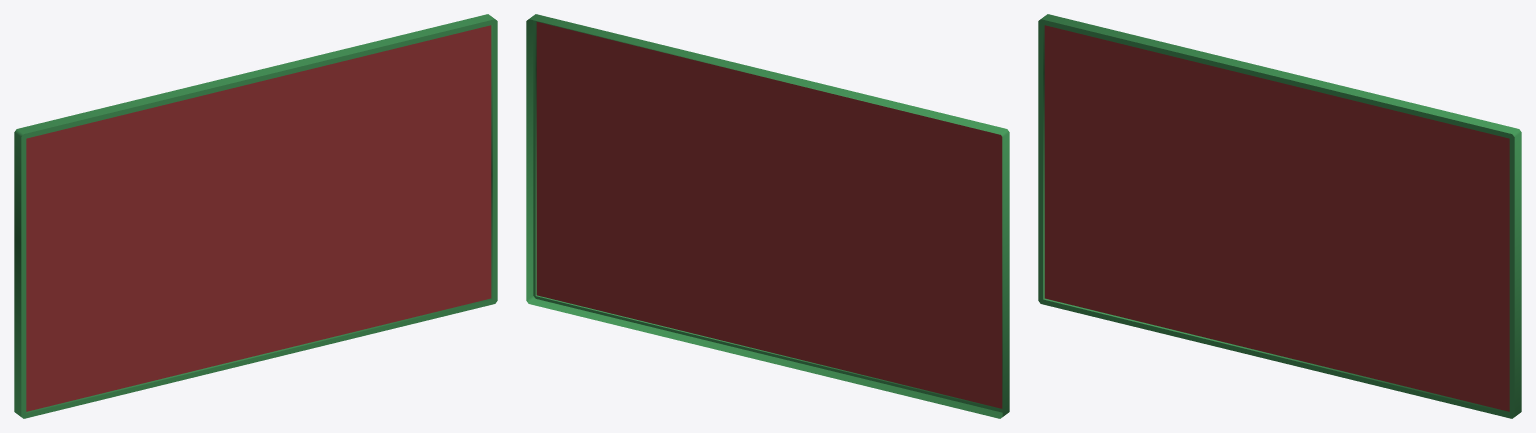
The model's file is Banner_Screen_2.FBX.
3 renders of one model, left to right at view 1: azimuth 30°, elevation 25°; view 2: azimuth 150°, elevation 25°; view 3: azimuth 330°, elevation 25°, orthographic.
Parts seen in each view (by area): view 1: Banner_Screen_1, Banner_Screen_Frame; view 2: Banner_Screen_1, Banner_Screen_Frame; view 3: Banner_Screen_1, Banner_Screen_Frame.
Boxes of the visible parts, x1=… form: Banner_Screen_1: x1=26, y1=25, x2=491, y2=411; Banner_Screen_Frame: x1=14, y1=14, x2=497, y2=418; Banner_Screen_1: x1=536, y1=22, x2=1002, y2=408; Banner_Screen_Frame: x1=526, y1=14, x2=1009, y2=418; Banner_Screen_1: x1=1044, y1=25, x2=1509, y2=411; Banner_Screen_Frame: x1=1038, y1=14, x2=1521, y2=418.
Bounding box in the file's own units: 3.2 × 0.0817 × 1.83.
